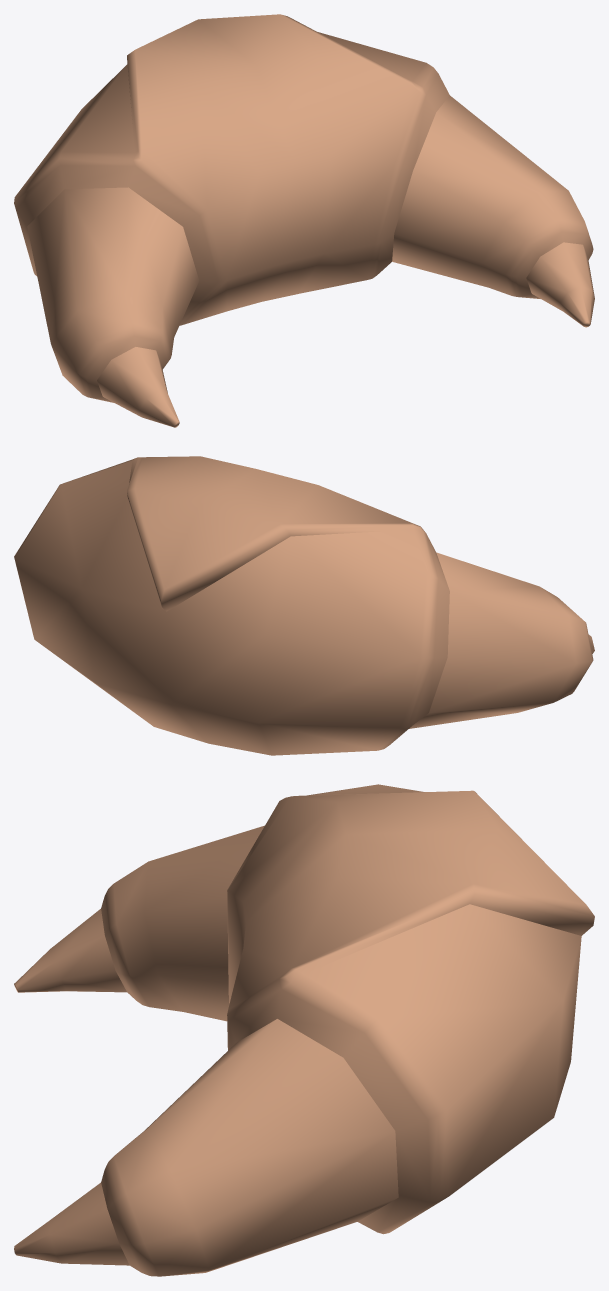
The model's file is Croissant_Model.fbx.
The picture shows the model from 3 angles, top to bottom: view 1: azimuth 30°, elevation 25°; view 2: azimuth 150°, elevation 25°; view 3: azimuth 270°, elevation 25°; orthographic projection. The views are drawn at different scales.
Parts seen in each view (by area): view 1: Croissant; view 2: Croissant; view 3: Croissant.
Part boxes in pixels (x1=…): Croissant: x1=14, y1=14, x2=594, y2=427; Croissant: x1=14, y1=456, x2=594, y2=755; Croissant: x1=14, y1=784, x2=594, y2=1276.
Size of the model in its own units: 0.1284 by 0.0571 by 0.0938.
